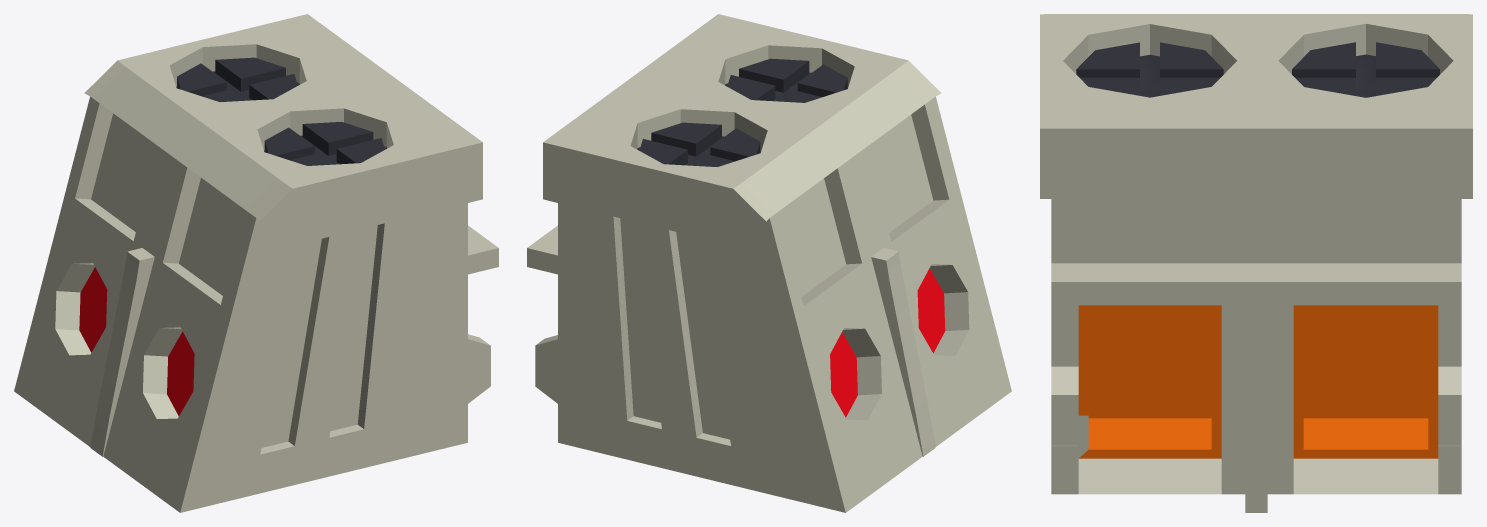
Rendered from PlugNode3_Start.fbx.
The picture shows the model from 3 angles, left to right: view 1: azimuth 30°, elevation 25°; view 2: azimuth 150°, elevation 25°; view 3: azimuth 270°, elevation 25°; orthographic projection. The views are drawn at different scales.
Visible parts, largest first — view 1: PlugNode3_Start; view 2: PlugNode3_Start; view 3: PlugNode3_Start.
Part boxes in pixels (x1,y1,x2,y2): PlugNode3_Start: (14, 14, 498, 512); PlugNode3_Start: (527, 14, 1011, 512); PlugNode3_Start: (1040, 14, 1472, 512).
Bounding box in the file's own units: 43.48 × 39.17 × 41.33.
